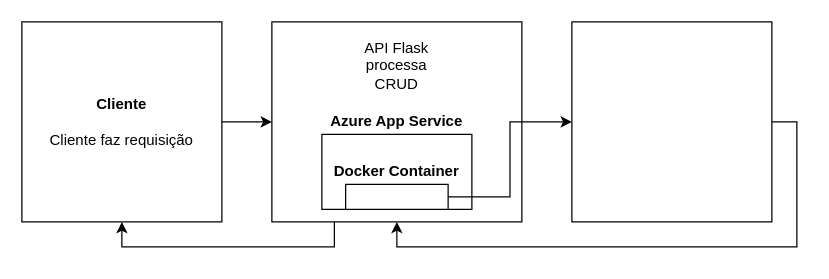
Image size: 829x279. Some labels were removed from this diagram. Each missing label, with the centre of its shape:
API Flask: (396,196)
Banco de Dados Oracle Banco de Dados Oracle persiste os dados: (671,121)
